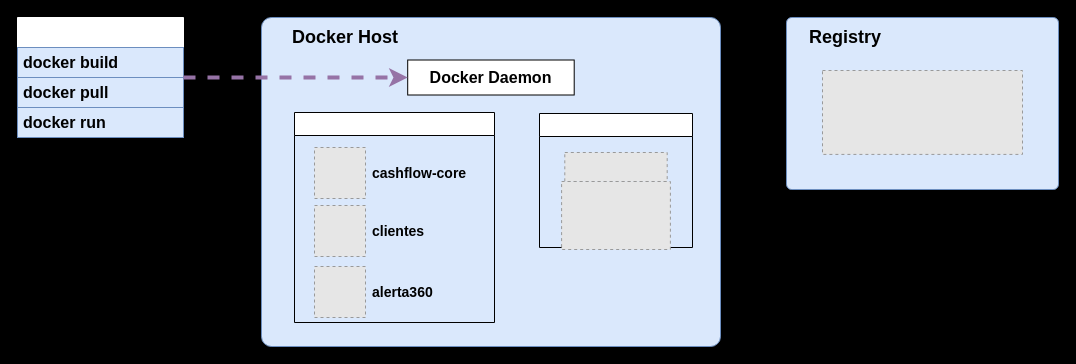
Some shapes in this 1076 by 364 pixel diagram are drawn without their labels. Grey dashed boxes stand in for pictures. Here are the shapes that lost their labels. From the top down, the box of each, then its label:
(16, 16, 184, 138): Docker Client
(538, 112, 692, 248): Images
(294, 112, 494, 322): Containers
